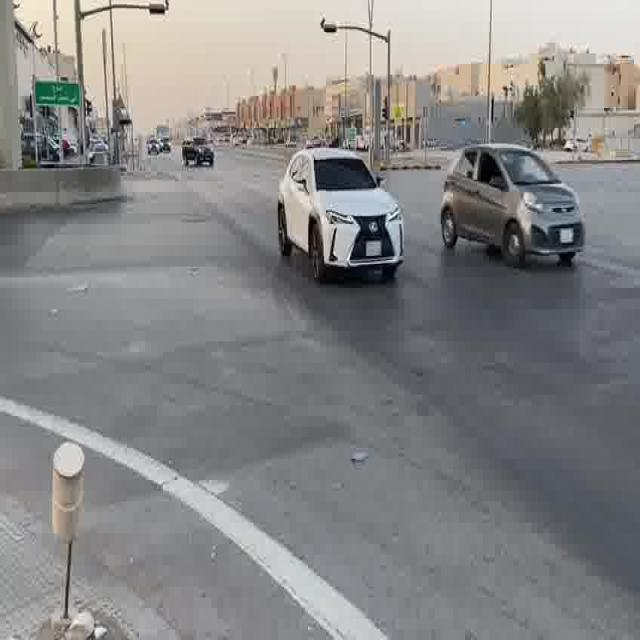bus: (439, 142, 588, 269), (277, 147, 405, 284), (182, 141, 216, 169), (89, 139, 109, 155), (157, 134, 171, 153)
car: (179, 209, 640, 640), (439, 142, 588, 269), (277, 147, 405, 284), (182, 141, 216, 169), (89, 139, 109, 155), (157, 134, 171, 153)
lanes: (179, 209, 640, 640), (226, 209, 639, 634)
lanes2: (226, 209, 639, 634), (260, 205, 640, 474)
lanes3: (260, 205, 640, 474), (286, 201, 640, 404)
lanes4: (286, 201, 640, 404), (327, 192, 640, 313)
lanes5: (327, 192, 640, 313)
